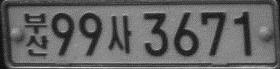1: (230, 11, 259, 56)
3: (142, 12, 168, 57)
6: (173, 11, 198, 56)
7: (200, 10, 226, 56)
9: (77, 11, 102, 56), (50, 11, 75, 55)
부산_V: (23, 12, 50, 57)
사: (108, 15, 132, 54)
